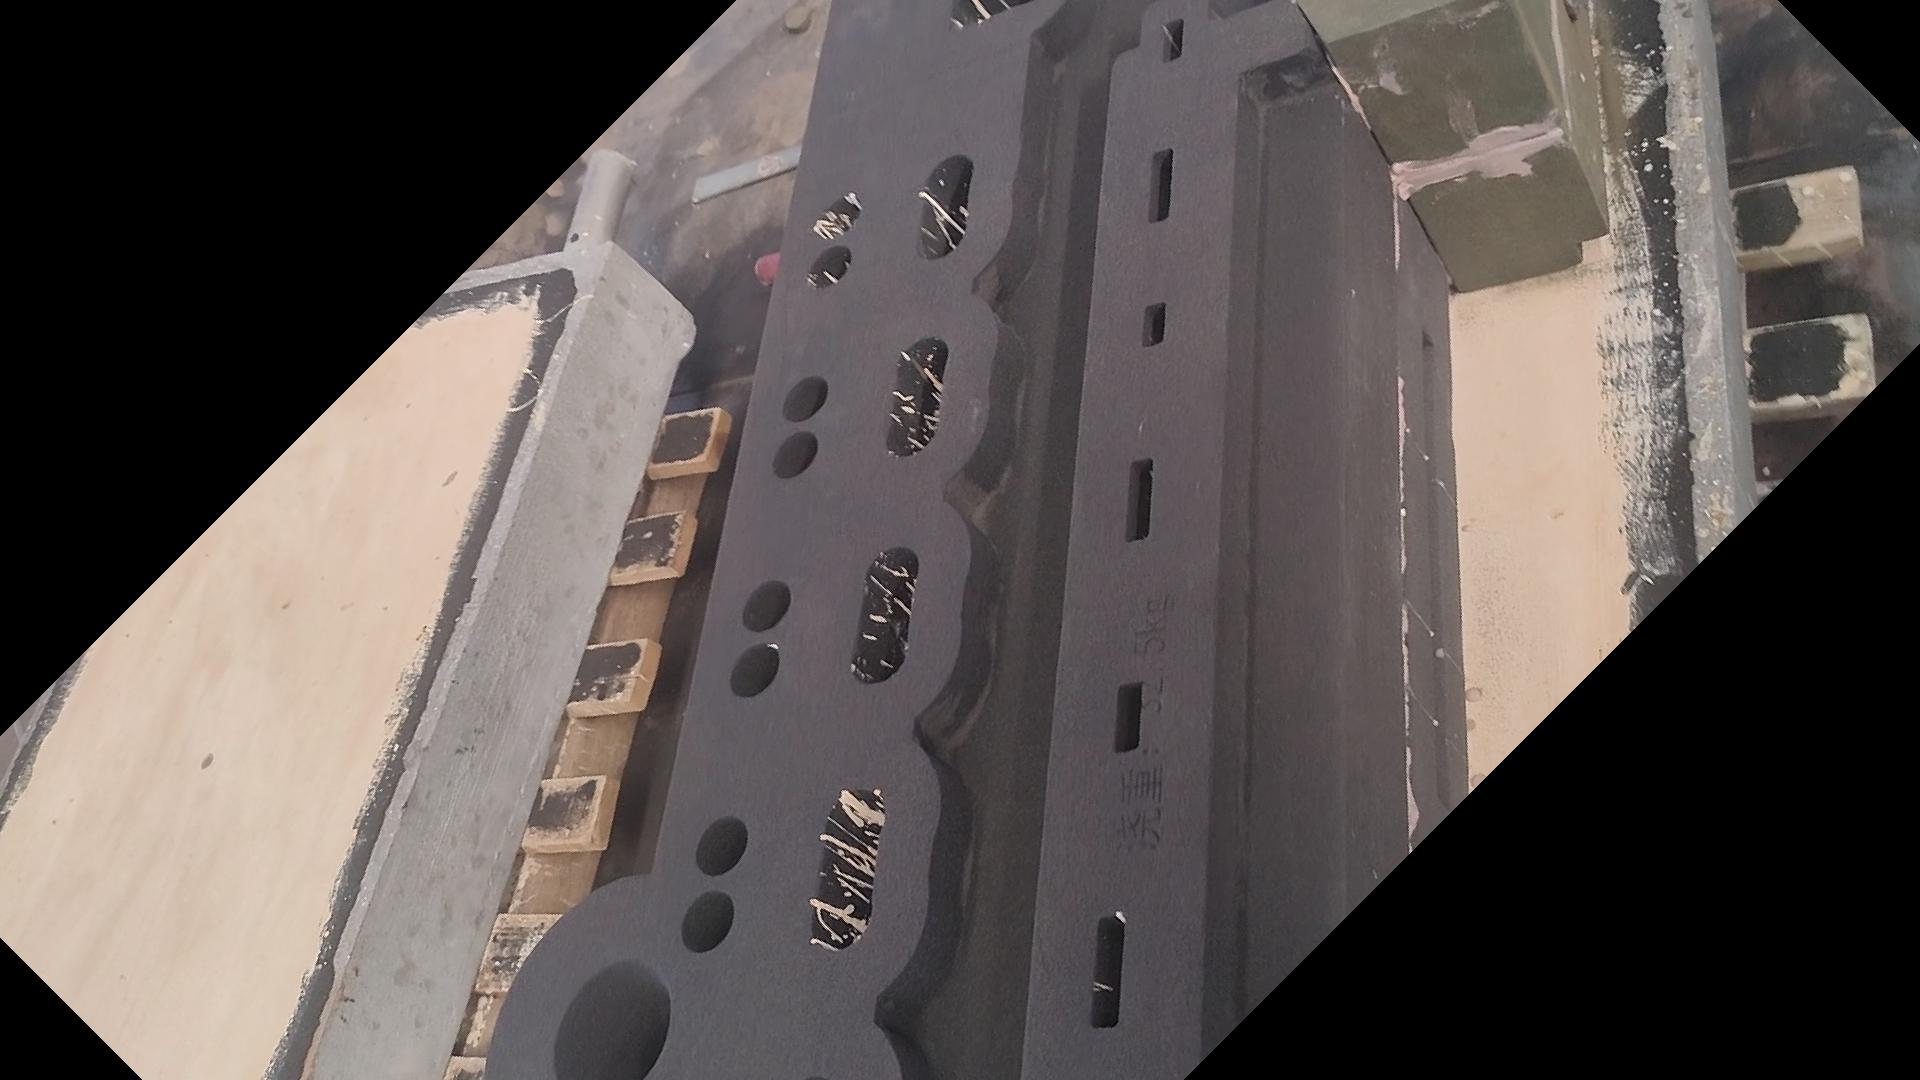pouring hole: (553, 959, 670, 1080)
